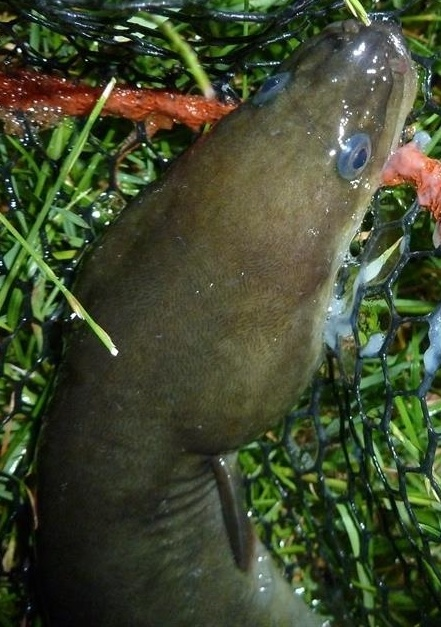Anguilla anguilla: (20, 20, 421, 627)
